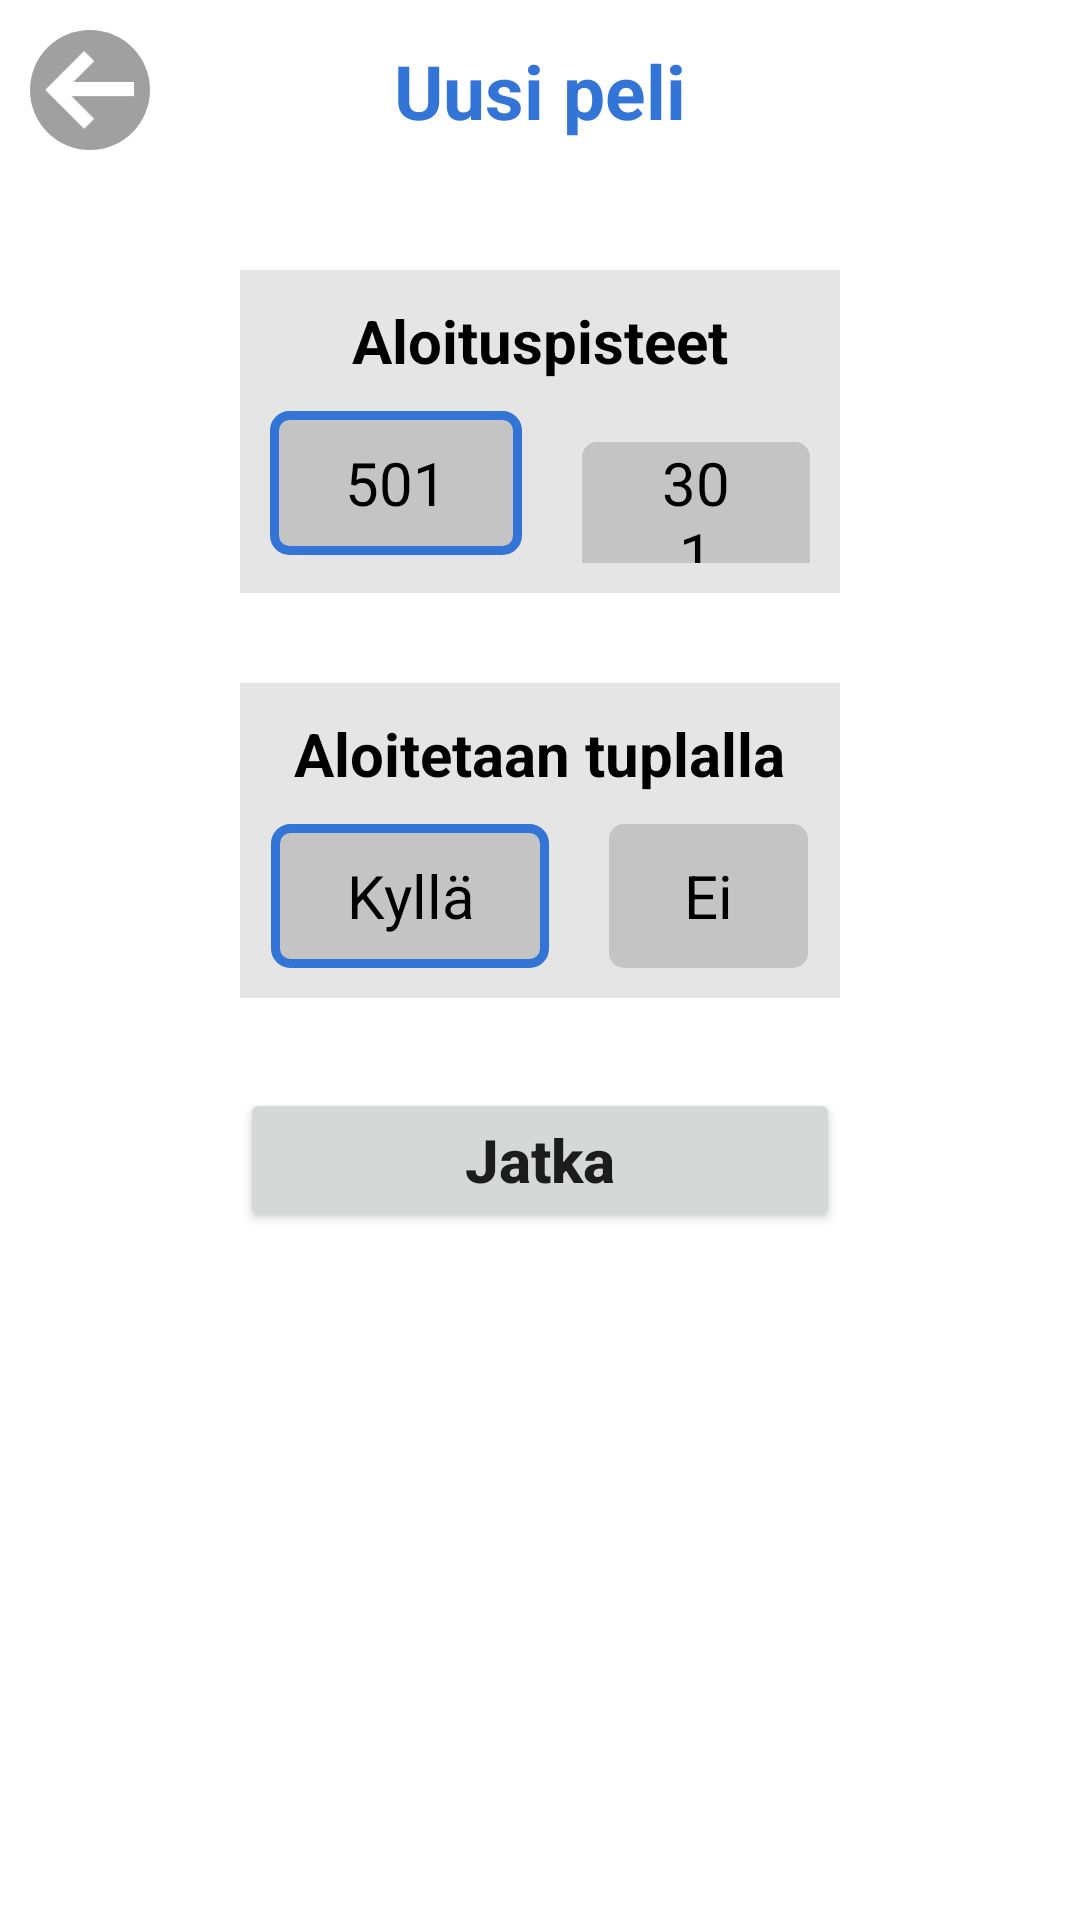

Screen size 1080*1920. Icon name, then its center in pixels as point (x, y):
back arrow: point (90, 90)
